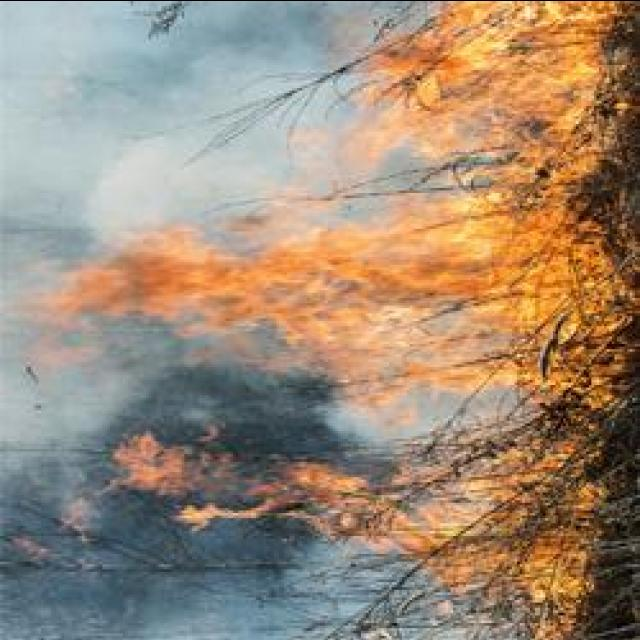fire: (498, 28, 598, 106), (466, 212, 562, 288), (115, 429, 183, 491)
smoke: (2, 0, 102, 231), (1, 358, 122, 436), (76, 145, 176, 223), (216, 0, 340, 61), (336, 374, 446, 441)
